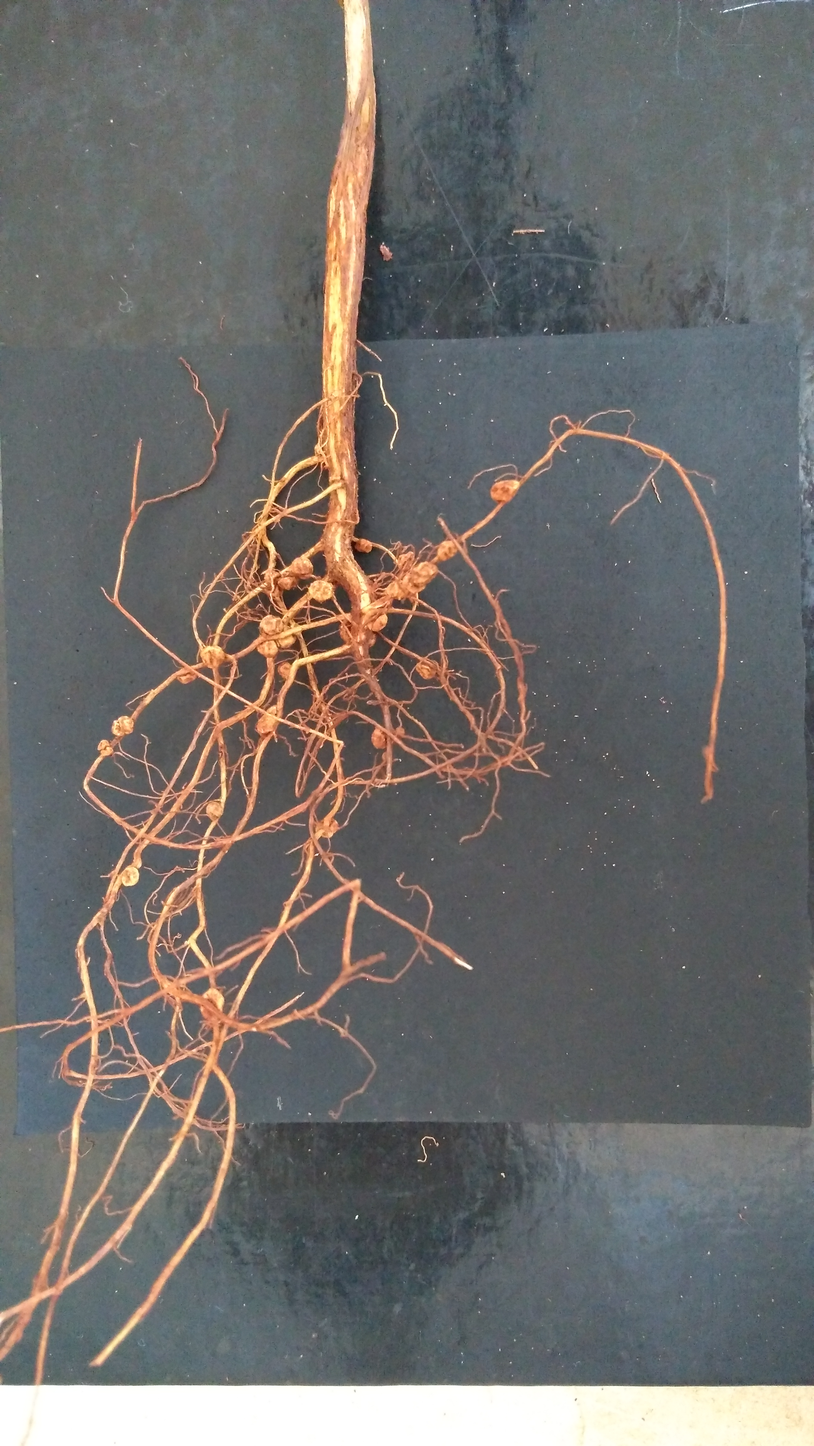nodule: (401, 562, 437, 593), (200, 988, 225, 1018), (491, 480, 520, 502), (255, 704, 277, 733), (364, 608, 388, 632), (200, 644, 224, 668), (308, 580, 333, 603), (259, 614, 283, 636), (264, 570, 283, 597), (371, 726, 393, 749), (275, 625, 296, 649), (292, 557, 313, 580), (111, 716, 134, 737), (385, 579, 409, 599), (416, 658, 438, 679), (316, 817, 339, 837), (339, 618, 355, 644), (437, 541, 457, 560), (396, 551, 414, 572), (257, 639, 278, 657), (206, 801, 224, 821), (122, 867, 139, 886), (277, 576, 300, 590), (178, 668, 197, 684), (359, 631, 376, 647), (354, 538, 372, 553), (97, 740, 113, 756), (278, 661, 292, 679), (393, 726, 405, 738), (382, 750, 391, 762)
